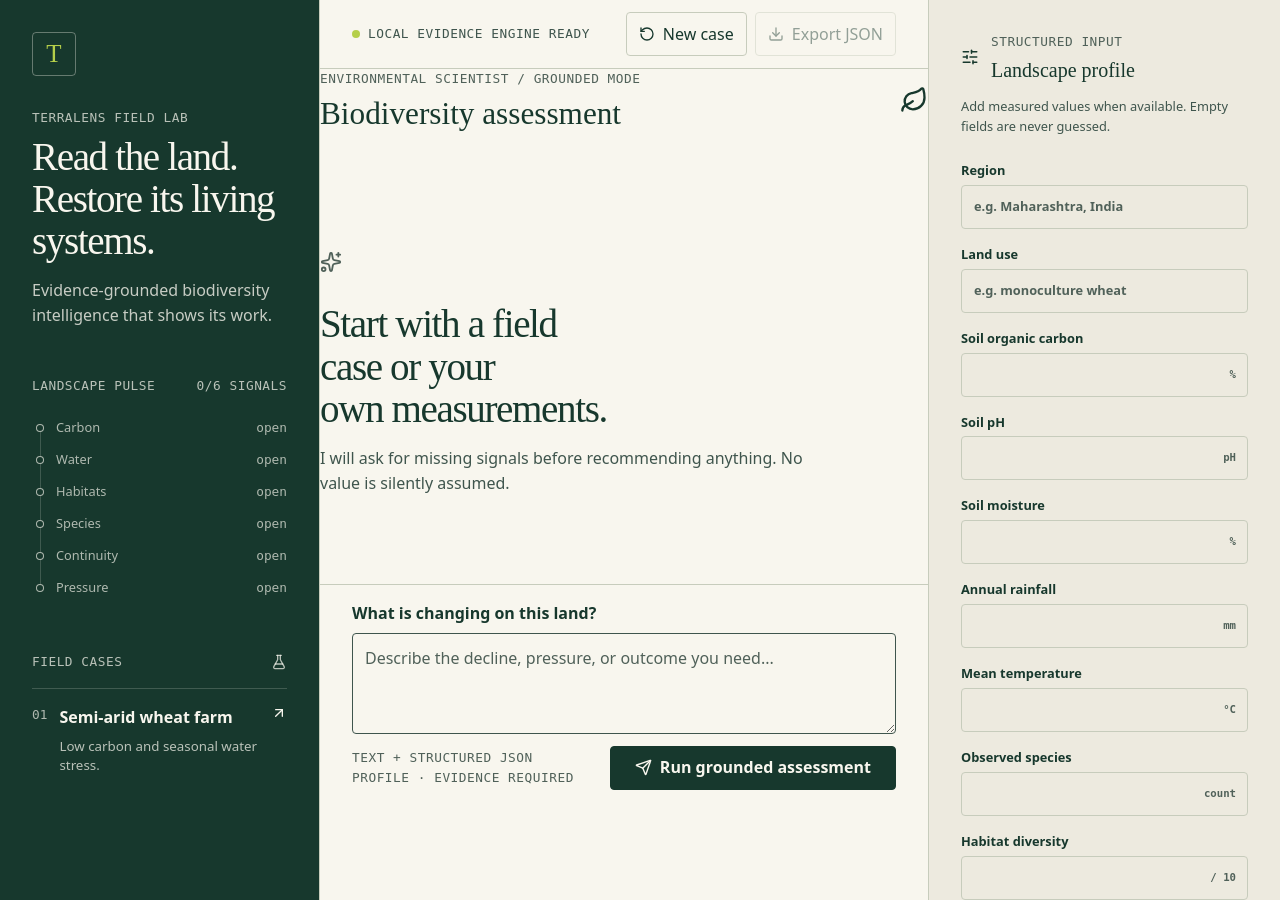
loads a sample landscape into the structured profile
This screenshot has width=1280, height=900.
Click the button "Semi-arid wheat farm" at point(160, 739), box x1=32 y1=688 x2=287 y2=791
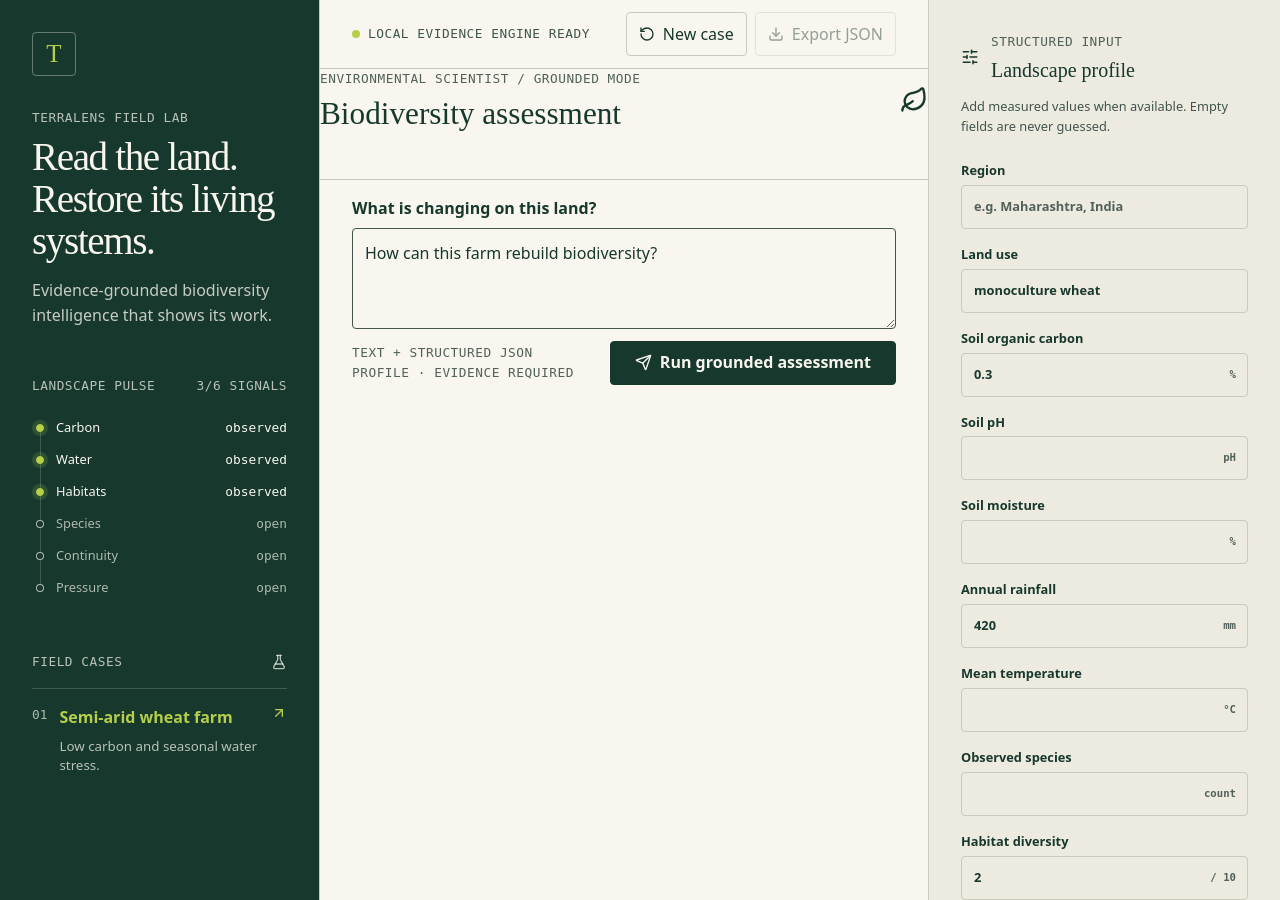
Expected: the number field labelled "Soil organic carbon %" holds "0.3", x1=961 y1=353 x2=1248 y2=397
Expected: the field labelled "Land use" holds "monoculture wheat", x1=961 y1=269 x2=1248 y2=313
